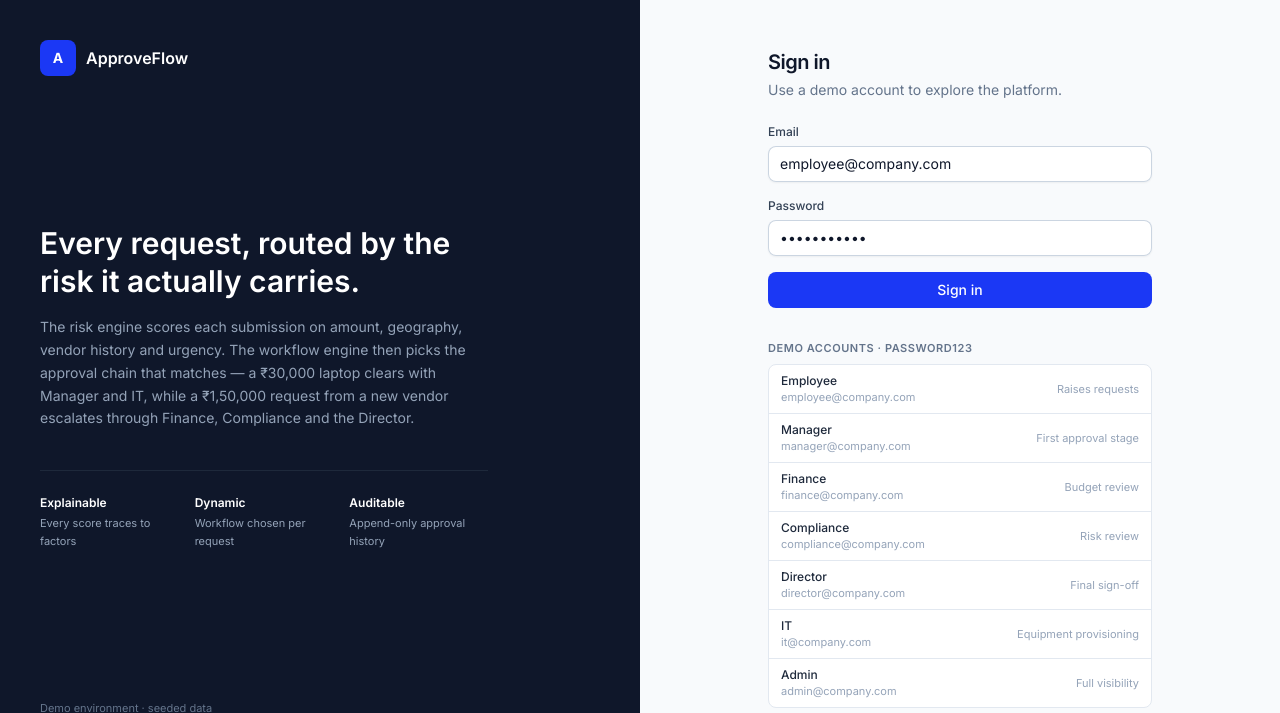
Login page › shows the error from the API when the credentials are wrong
Step 1. Click the button "Sign in" → [960, 290], box [768,272,1152,308]
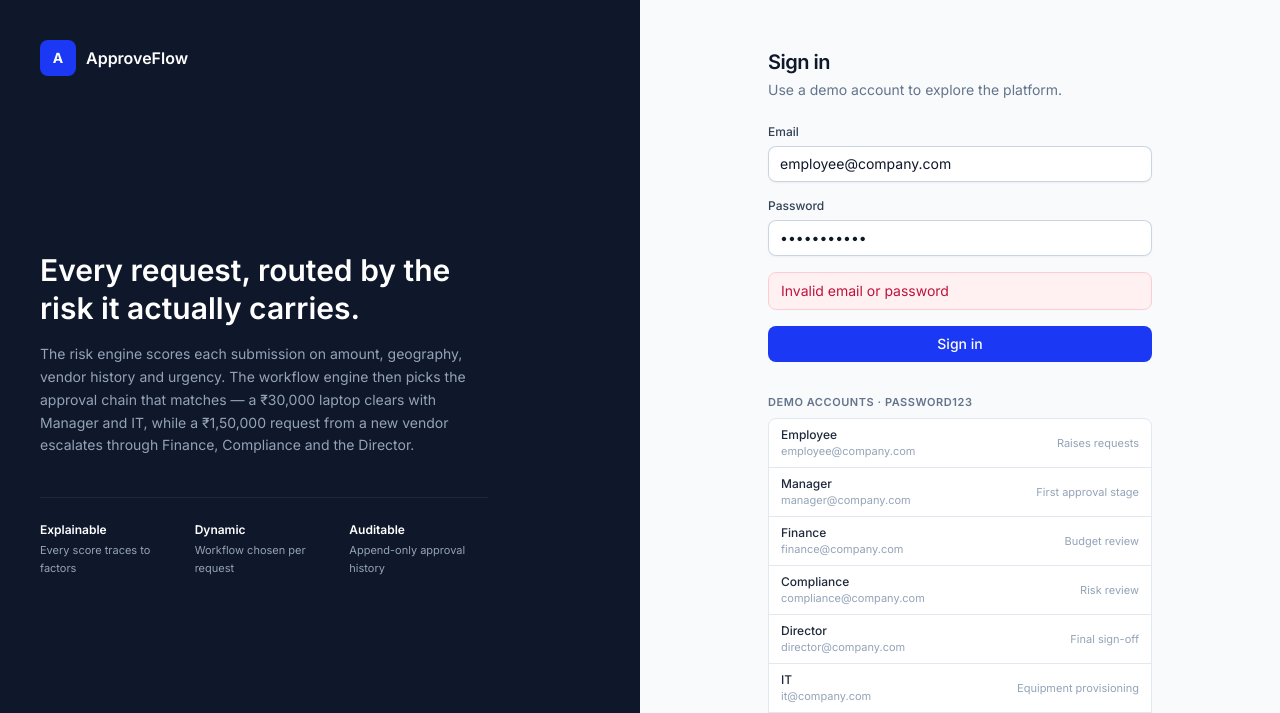
Now the text "Invalid email or password" is shown, box [768,272,1152,310]
